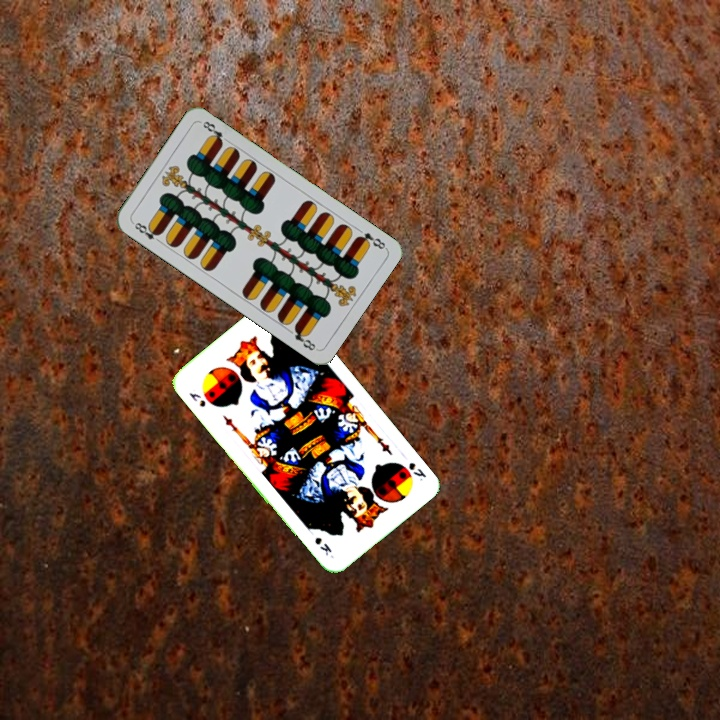E8: (128, 217, 164, 246), (353, 228, 388, 252)
SK: (404, 458, 429, 484), (185, 389, 208, 410)
